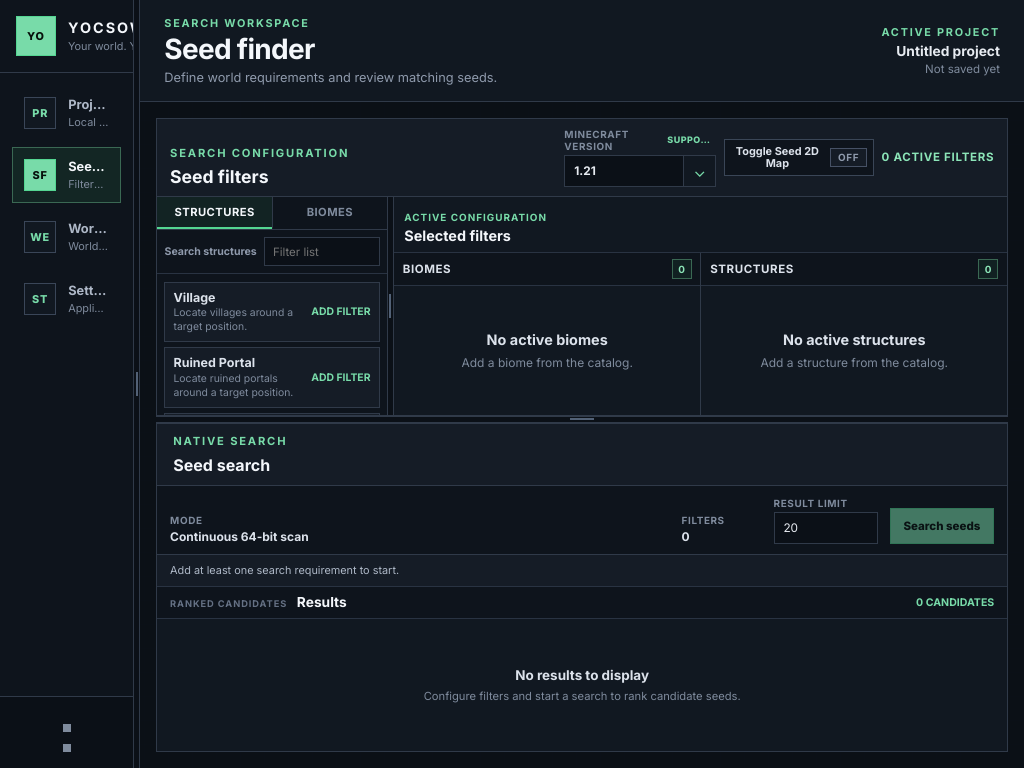
Test: App › keeps pending versions configurable while blocking their search
Click the button with aria-label "Add Village filter".
click(272, 312)  # box [164, 282, 380, 342]
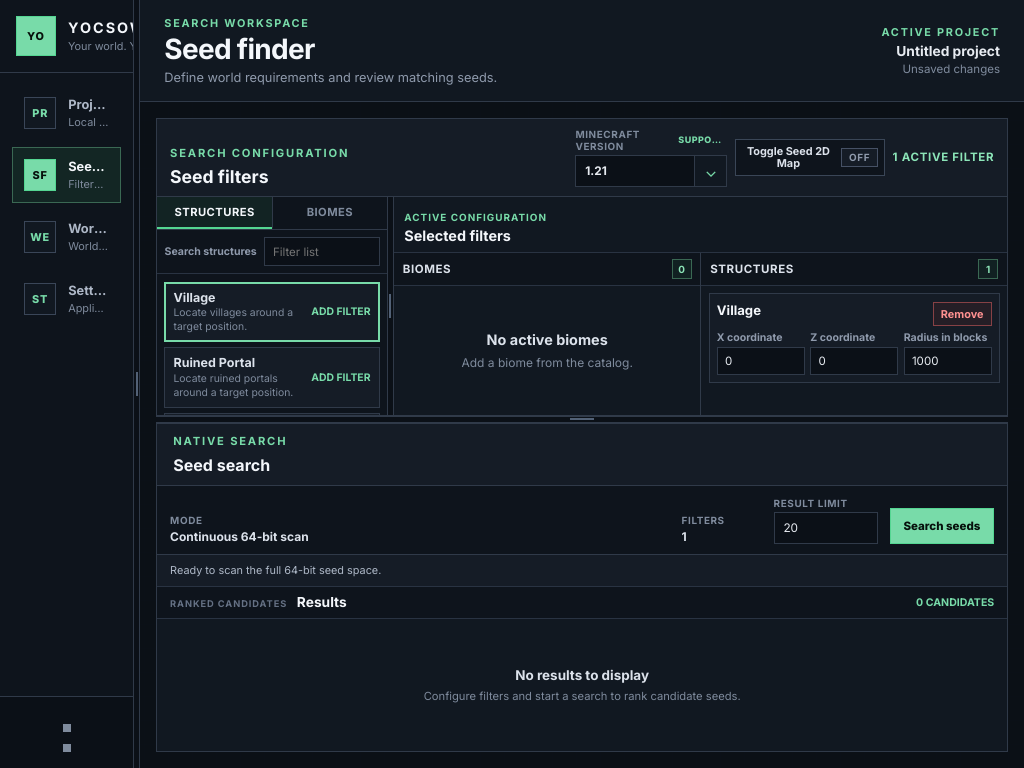
Click the dropdown labelled "Minecraft version".
click(635, 171)  # box [576, 156, 694, 186]
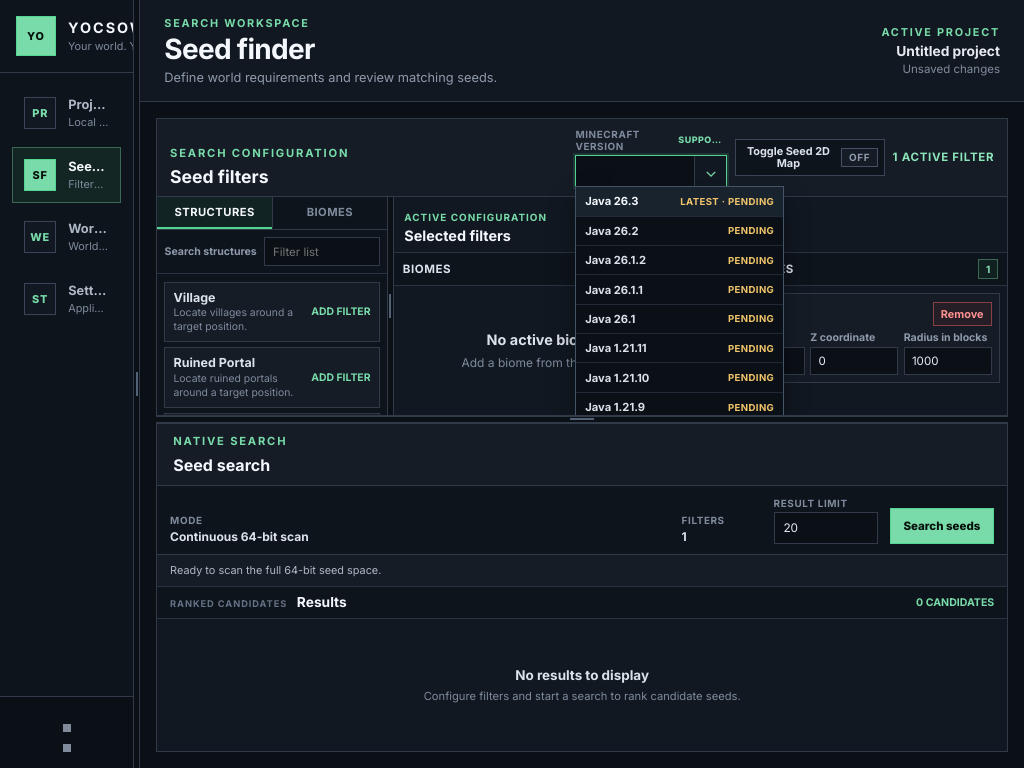
Type keys "1.20.5"
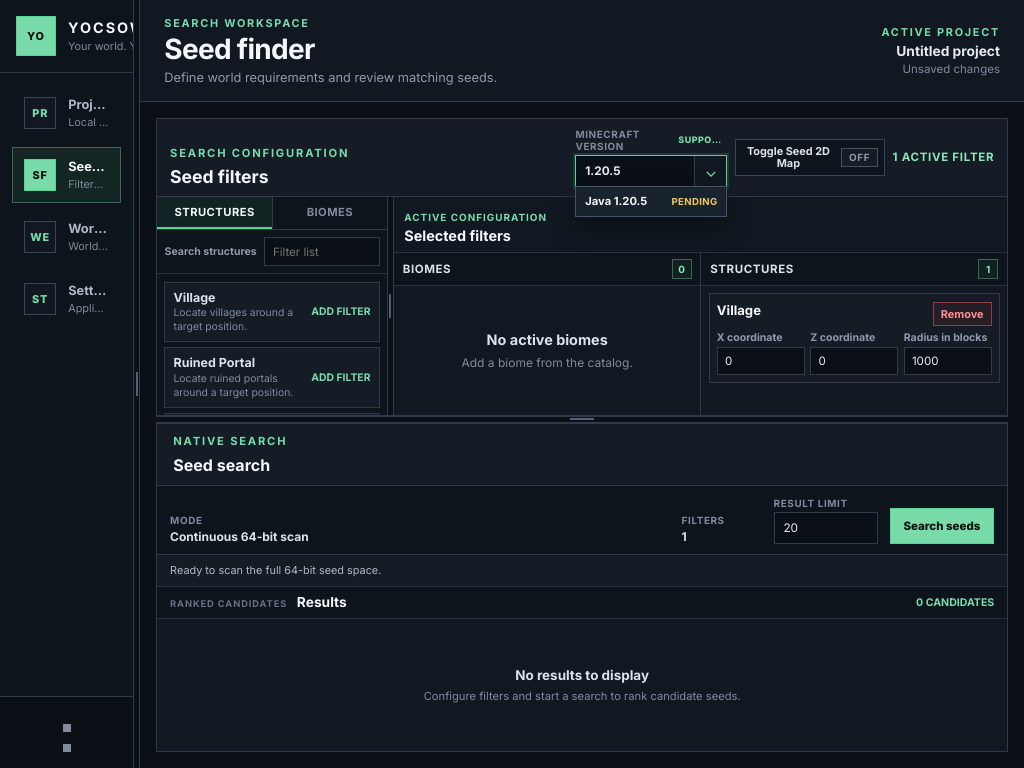
Click the option "Java 1.20.5 Pending".
click(651, 201)  # box [576, 187, 726, 216]
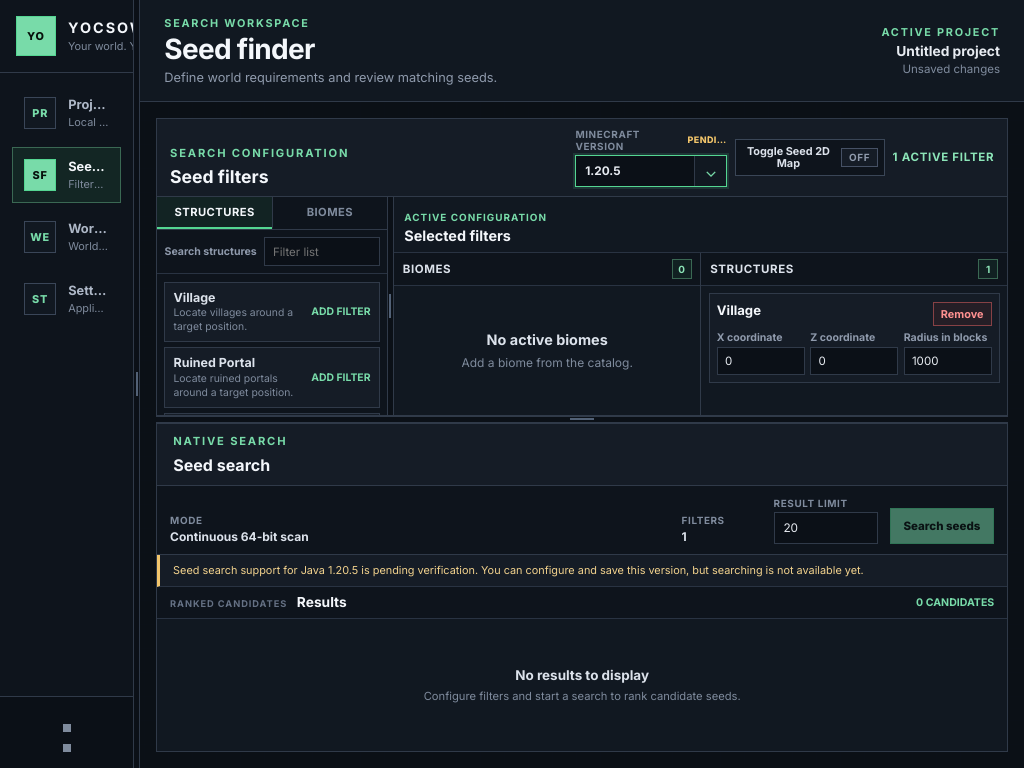
expect the dropdown labelled "Minecraft version" holds "1.20.5": met, box [576, 156, 694, 186]
expect the button "Search seeds" is disabled: met, box [890, 508, 994, 544]
expect the text "searching is not available yet" is shown: met, box [173, 563, 864, 577]
